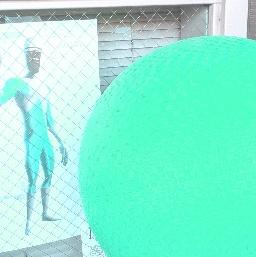algae: (85, 32, 256, 257)
